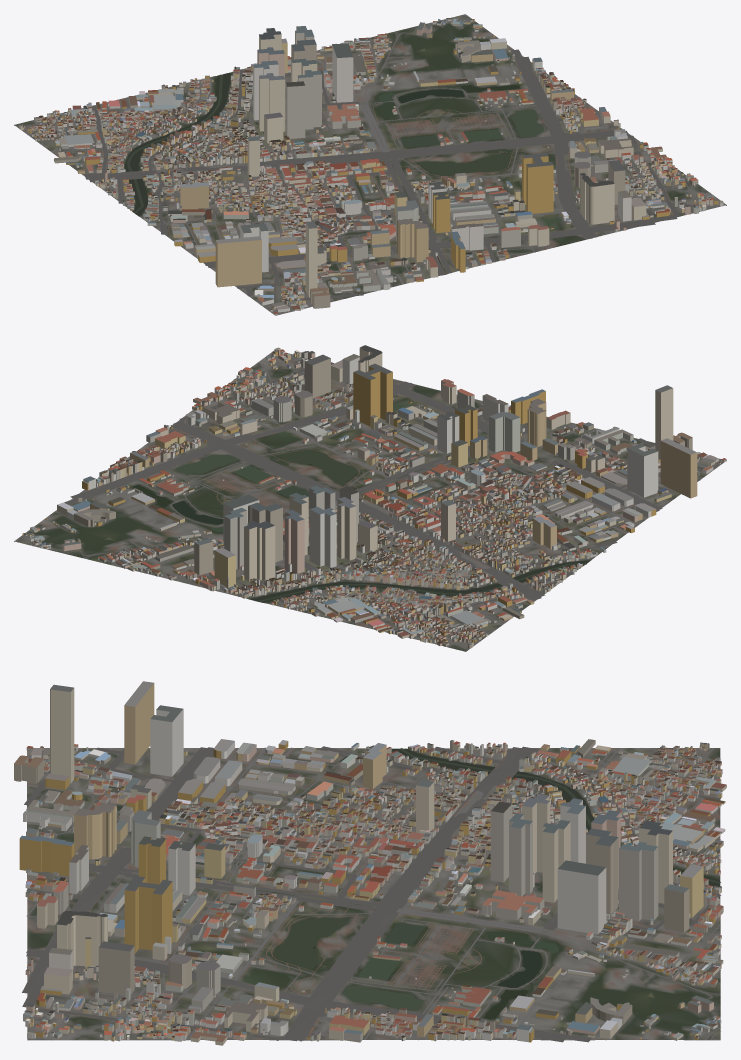
3 views of the same model, one above another, from view 1: azimuth 30°, elevation 25°; view 2: azimuth 150°, elevation 25°; view 3: azimuth 270°, elevation 25° (orthographic). The views are drawn at different scales.
Visible parts, largest first — view 1: buildings, ground, roads, water; view 2: buildings, ground, roads, water; view 3: buildings, ground, roads, water.
Boxes of the visible parts, x1,y1,x2,y2 form: buildings: (18,18,723,315); ground: (14,14,726,315); roads: (16,15,724,312); water: (124,72,544,267); buildings: (22,345,726,648); ground: (14,352,726,651); roads: (16,352,719,649); water: (133,429,589,602); buildings: (14,681,726,1045); ground: (27,748,720,1040); roads: (22,746,721,1042); water: (89,748,720,1019).
Size of the model in its own units: 1470 by 210 by 1442.
